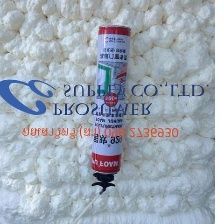aerosol_cans: (85, 19, 134, 196)
